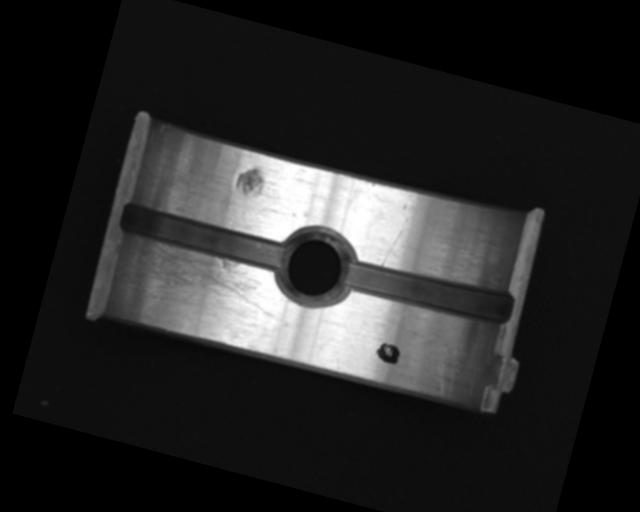blot: (373, 340, 403, 366)
bruise: (232, 164, 267, 201)
gap: (337, 248, 517, 331), (117, 198, 290, 275)
hole: (268, 217, 360, 314)
nick: (381, 214, 409, 270)
scratch: (110, 231, 286, 332)
